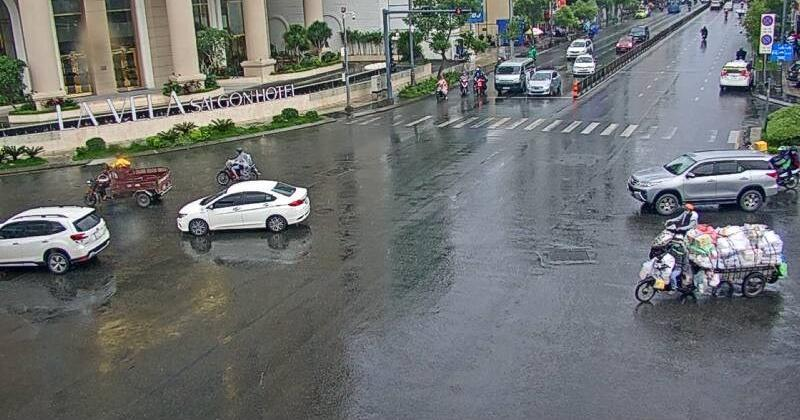xe hoi: (629, 149, 781, 217), (0, 201, 118, 277), (175, 180, 313, 244), (527, 68, 560, 95)
xe may: (632, 212, 787, 307), (83, 156, 171, 208), (219, 145, 257, 183)
xe van: (493, 56, 534, 92)
